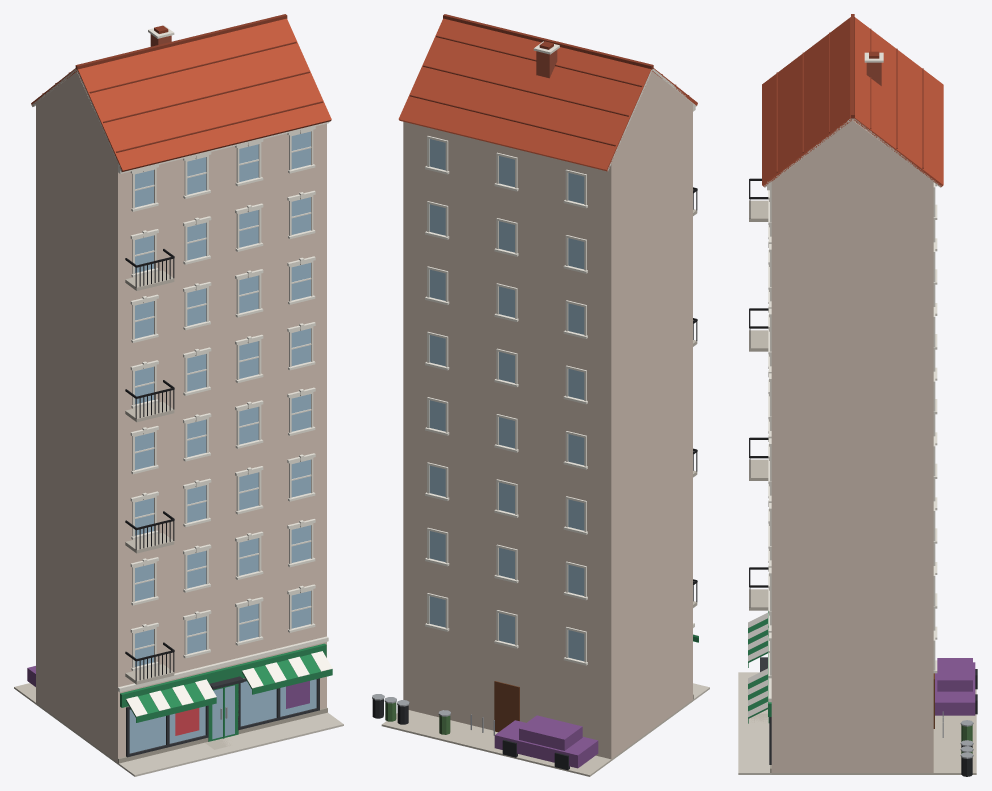
File: Blok_duz_9k_3_Hafif.fbx
3 views of the same model, side by side, from view 1: azimuth 30°, elevation 25°; view 2: azimuth 150°, elevation 25°; view 3: azimuth 270°, elevation 25° (orthographic).
Visible parts, largest first — view 1: Blok_duz_9k_3_Hafif; view 2: Blok_duz_9k_3_Hafif; view 3: Blok_duz_9k_3_Hafif.
Boxes of the visible parts, box(x1,y1,x2,y2) form: Blok_duz_9k_3_Hafif: box(14, 14, 343, 776); Blok_duz_9k_3_Hafif: box(372, 14, 709, 776); Blok_duz_9k_3_Hafif: box(738, 14, 977, 776).
Bounding box in the file's own units: 10.69 × 30.9 × 10.04.
